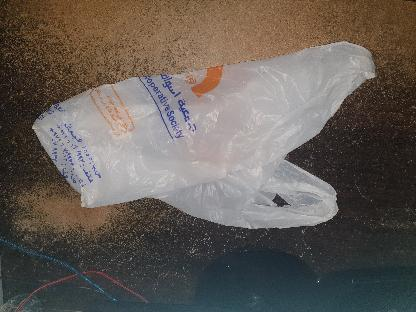Plastic Bag: (28, 40, 382, 228)
